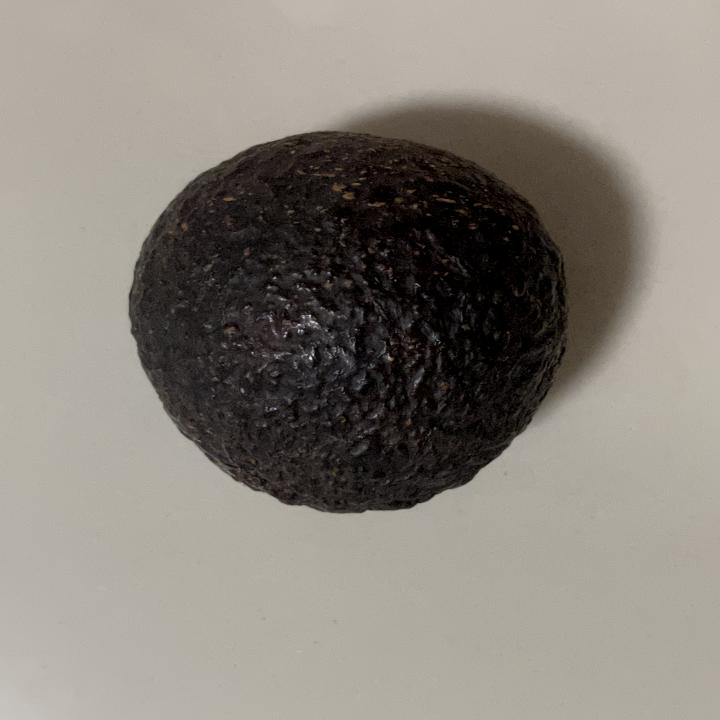Level3: (120, 124, 579, 524)
